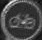bike lane: (1, 2, 39, 37)
